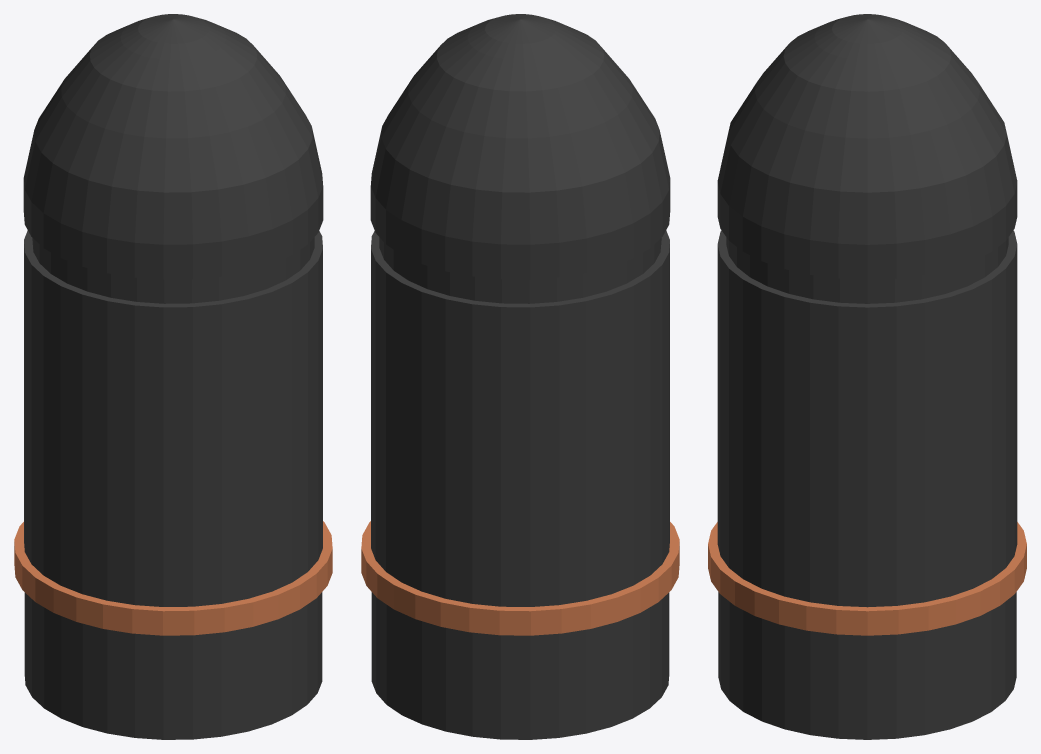
Rendered from Bullet.fbx.
3 renders of one model, left to right at view 1: azimuth 30°, elevation 25°; view 2: azimuth 150°, elevation 25°; view 3: azimuth 270°, elevation 25°, orthographic.
Parts seen in each view (by area): view 1: Bullet; view 2: Bullet; view 3: Bullet.
Boxes of the visible parts, bbox=[...] form: Bullet: bbox=[14, 14, 332, 739]; Bullet: bbox=[361, 14, 679, 739]; Bullet: bbox=[708, 14, 1026, 739].
Bounding box in the file's own units: 213 × 494 × 213.
